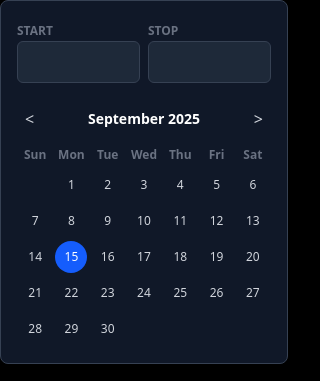
Test: DatePicker.vue › User Interactions › navigates to the next month on button click
Click the button with test id "next-month-btn" at (258, 119), box [246,99,271,139]
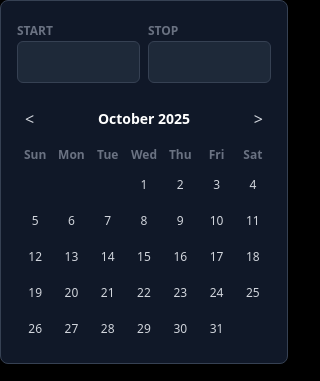
Check: the heading with test id "month-year-header" reads "October 2025", box [98,109,190,128]
